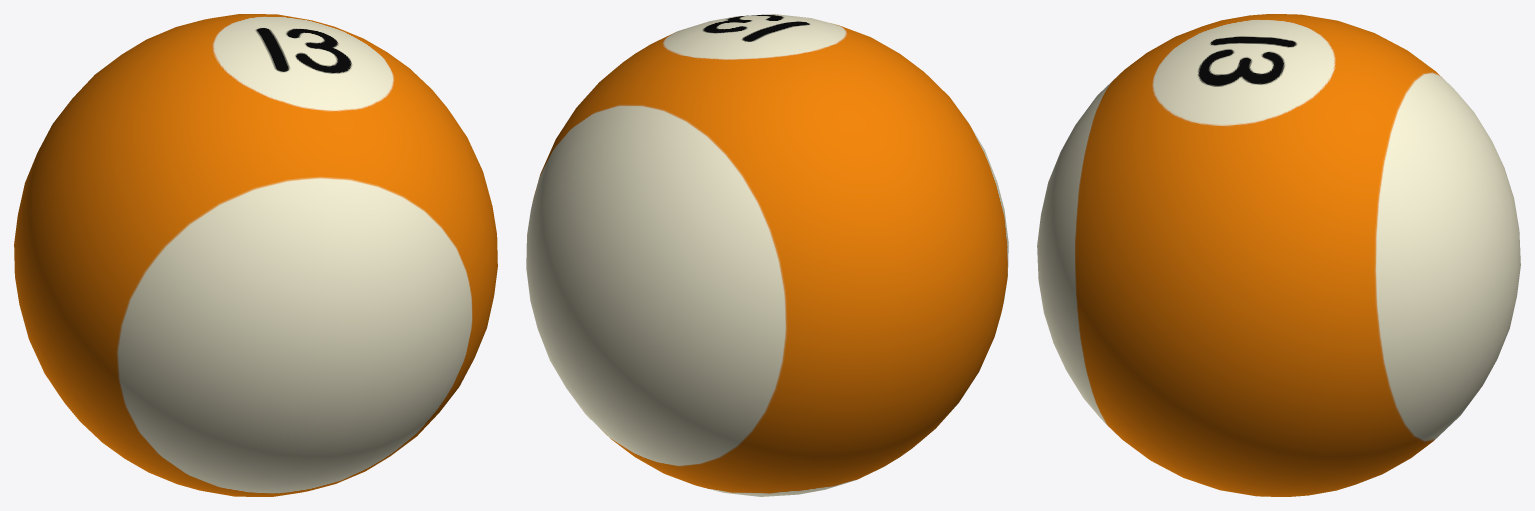
Rendered from bola15.obj.
3 views of the same model, side by side, from view 1: azimuth 30°, elevation 25°; view 2: azimuth 150°, elevation 25°; view 3: azimuth 270°, elevation 25° (orthographic).
Visible parts, largest first — view 1: 13_Ball; view 2: 13_Ball; view 3: 13_Ball.
Part boxes in pixels (<box>): 13_Ball: <box>14,14,497,496</box>; 13_Ball: <box>526,14,1008,496</box>; 13_Ball: <box>1037,14,1520,496</box>.
Bounding box in the file's own units: 0.051 × 0.0509 × 0.0509.
Materials: 1 (1 with a texture image).
